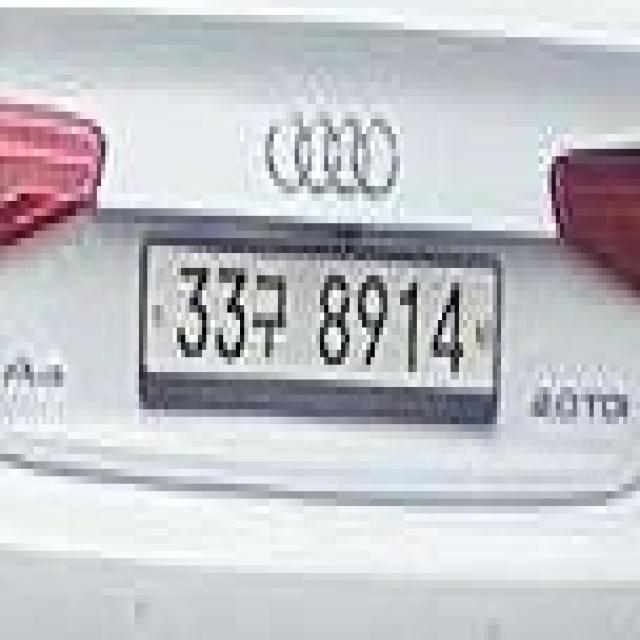1: (396, 275, 421, 372)
3: (172, 253, 210, 365), (215, 253, 248, 365)
4: (426, 276, 468, 380)
8: (316, 261, 349, 372)
9: (354, 268, 392, 372)
gu: (244, 268, 291, 365)
license_plate: (148, 238, 506, 402)
